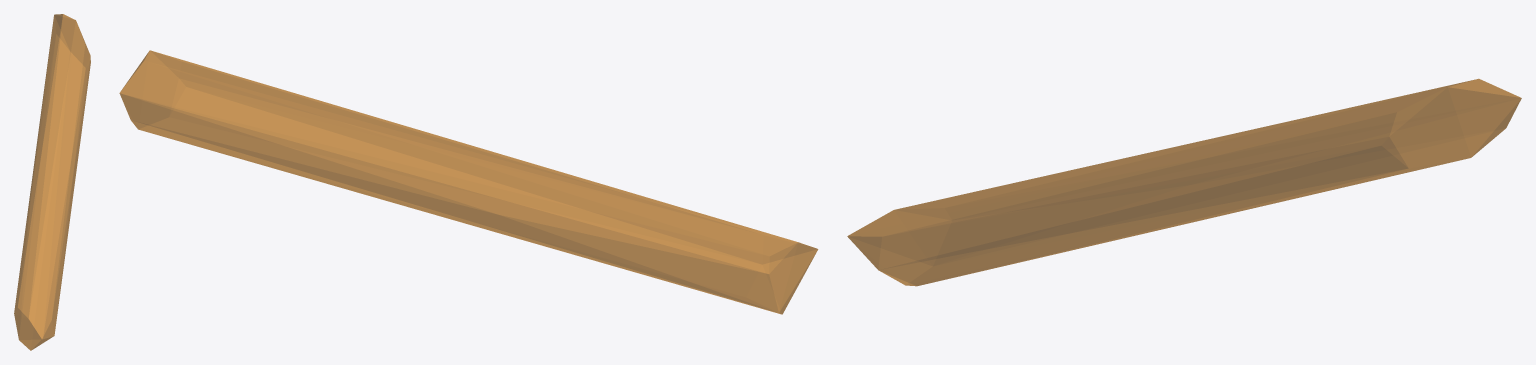
3 views of the same model, side by side, from view 1: azimuth 30°, elevation 25°; view 2: azimuth 150°, elevation 25°; view 3: azimuth 270°, elevation 25° (orthographic). The views are drawn at different scales.
Parts seen in each view (by area): view 1: Shape_IndexedFaceSet.011_Shape_IndexedFaceSet.7916; view 2: Shape_IndexedFaceSet.011_Shape_IndexedFaceSet.7916; view 3: Shape_IndexedFaceSet.011_Shape_IndexedFaceSet.7916.
Part boxes in pixels (bbox=[...]): Shape_IndexedFaceSet.011_Shape_IndexedFaceSet.7916: bbox=[14, 14, 90, 350]; Shape_IndexedFaceSet.011_Shape_IndexedFaceSet.7916: bbox=[119, 50, 818, 314]; Shape_IndexedFaceSet.011_Shape_IndexedFaceSet.7916: bbox=[847, 78, 1521, 286].
Size of the model in its own units: 0.123 by 0.1196 by 0.1934.
